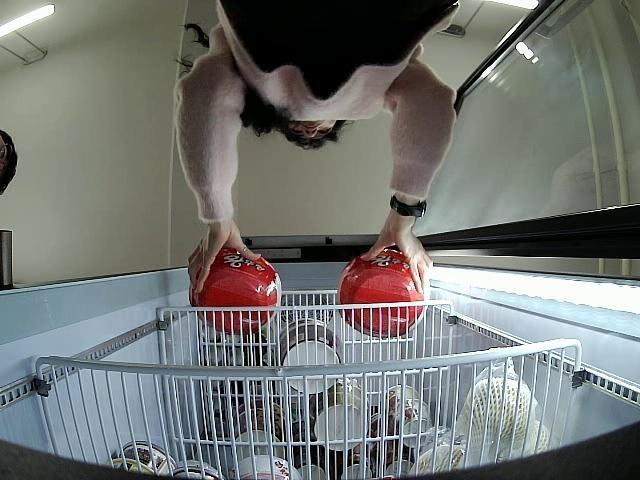10_wangTtukkeong: (190, 248, 282, 335), (336, 251, 425, 338)
